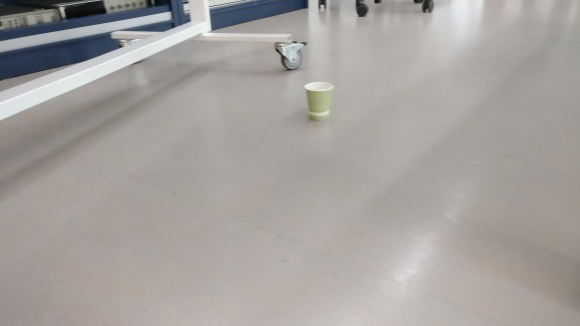cup: (302, 79, 334, 121)
